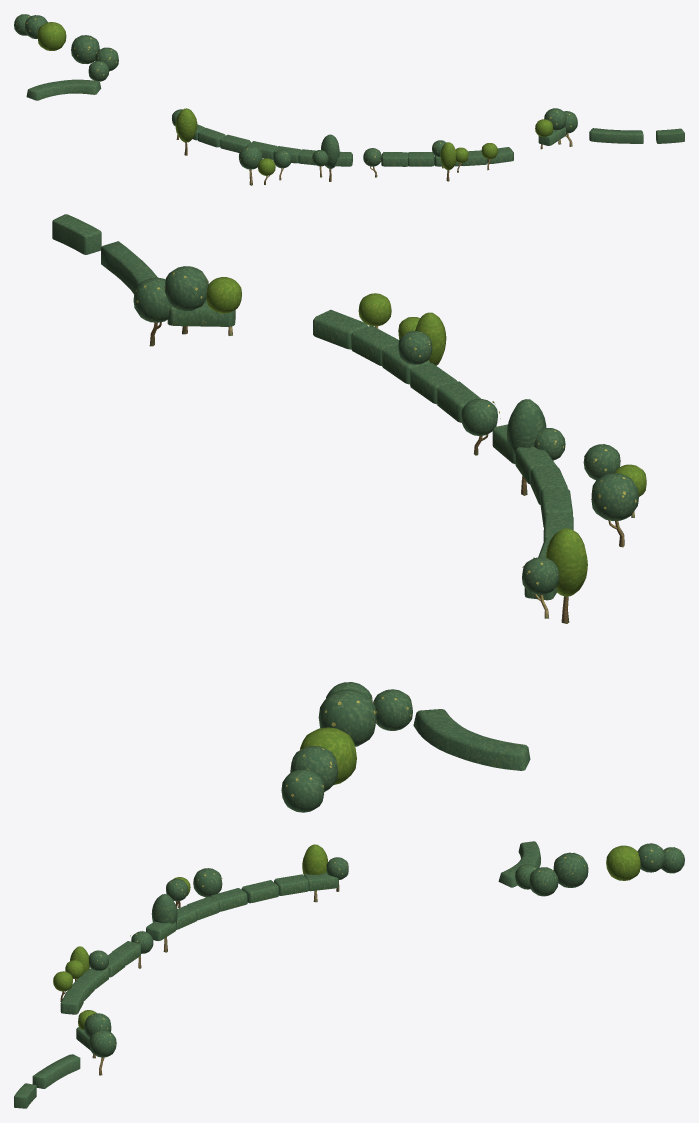
Rendered from pref_sm_beach_bk_pointmol_rightmol_lv1.fbx.
3 views of the same model, one above another, from view 1: azimuth 30°, elevation 25°; view 2: azimuth 150°, elevation 25°; view 3: azimuth 270°, elevation 25° (orthographic). The views are drawn at different scales.
Parts seen in each view (by area): view 1: sm_beach_bk_pointmol_qiutree_R_lv1, sm_beach_bk_pointmol_longplant_R_lv1; view 2: sm_beach_bk_pointmol_qiutree_R_lv1, sm_beach_bk_pointmol_longplant_R_lv1; view 3: sm_beach_bk_pointmol_qiutree_R_lv1, sm_beach_bk_pointmol_longplant_R_lv1.
Part boxes in pixels (x1=…): sm_beach_bk_pointmol_qiutree_R_lv1: x1=14, y1=14, x2=577, y2=185; sm_beach_bk_pointmol_longplant_R_lv1: x1=26, y1=79, x2=684, y2=166; sm_beach_bk_pointmol_qiutree_R_lv1: x1=133, y1=266, x2=646, y2=812; sm_beach_bk_pointmol_longplant_R_lv1: x1=52, y1=214, x2=573, y2=770; sm_beach_bk_pointmol_qiutree_R_lv1: x1=53, y1=843, x2=684, y2=1075; sm_beach_bk_pointmol_longplant_R_lv1: x1=14, y1=841, x2=540, y2=1108.
Bounding box in the file's own units: 71.7 × 7.34 × 76.91.
